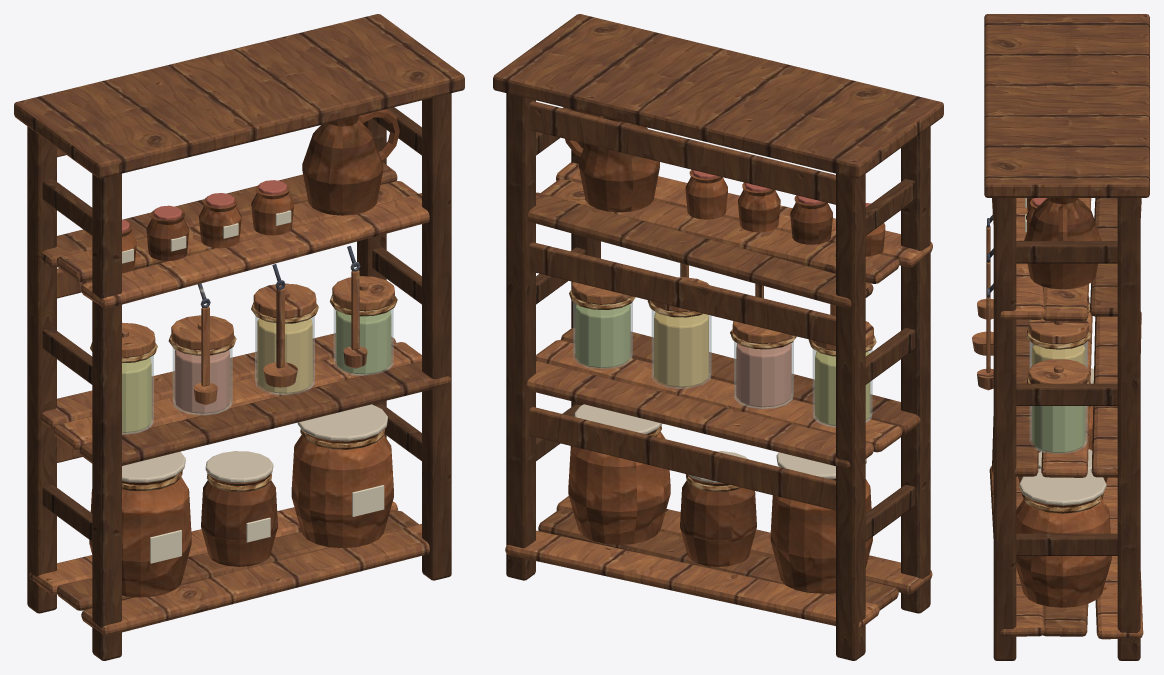
File: hm_preserve_shelf.glb
The picture shows the model from 3 angles, left to right: view 1: azimuth 30°, elevation 25°; view 2: azimuth 150°, elevation 25°; view 3: azimuth 270°, elevation 25°; orthographic projection. The views are drawn at different scales.
Visible parts, largest first — view 1: model; view 2: model; view 3: model.
Boxes of the visible parts, box(x1,y1,x2,y2) form: model: box(14, 14, 464, 660); model: box(493, 14, 943, 660); model: box(972, 14, 1149, 660).
Size of the model in its own units: 0.98 by 1.28 by 0.4294.
21 materials, 9 textured.
